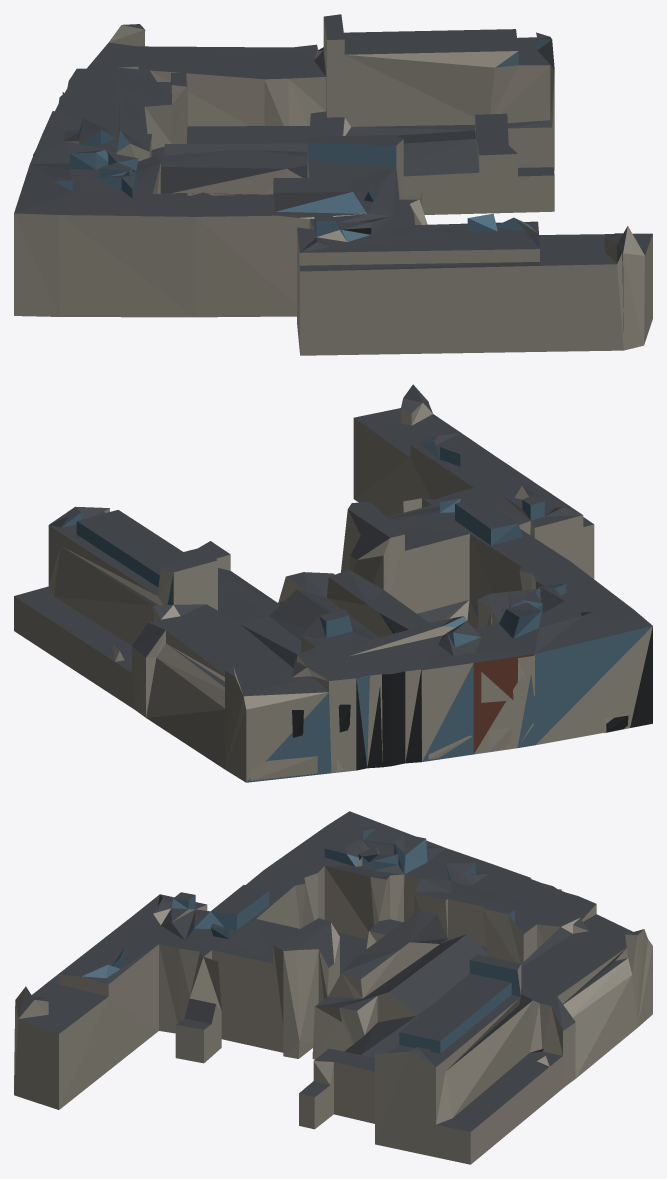
File: krasnapolsky.lod2.glb
The picture shows the model from 3 angles, top to bottom: view 1: azimuth 30°, elevation 25°; view 2: azimuth 150°, elevation 25°; view 3: azimuth 270°, elevation 25°; orthographic projection. The views are drawn at different scales.
Parts seen in each view (by area): view 1: lod2; view 2: lod2; view 3: lod2.
Part boxes in pixels (bbox=[...]): lod2: bbox=[14, 14, 652, 355]; lod2: bbox=[14, 384, 652, 782]; lod2: bbox=[14, 811, 652, 1164].
Bounding box in the file's own units: 133 × 27.55 × 137.
